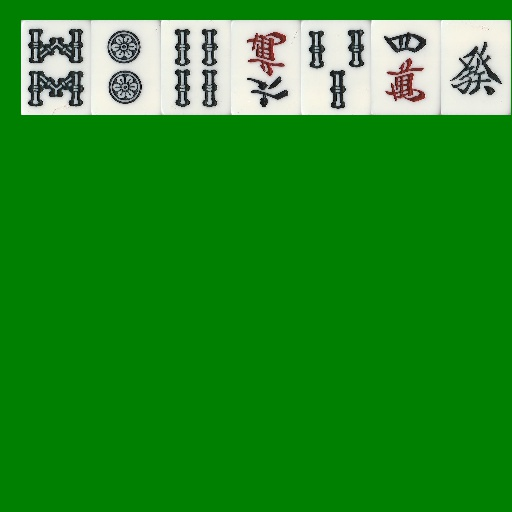2p: (91, 20, 161, 115)
3s: (301, 20, 371, 115)
4m: (371, 20, 441, 115)
4s: (161, 20, 231, 115)
6m: (231, 20, 301, 115)
8s: (21, 20, 91, 115)
hatsu: (441, 20, 511, 115)
